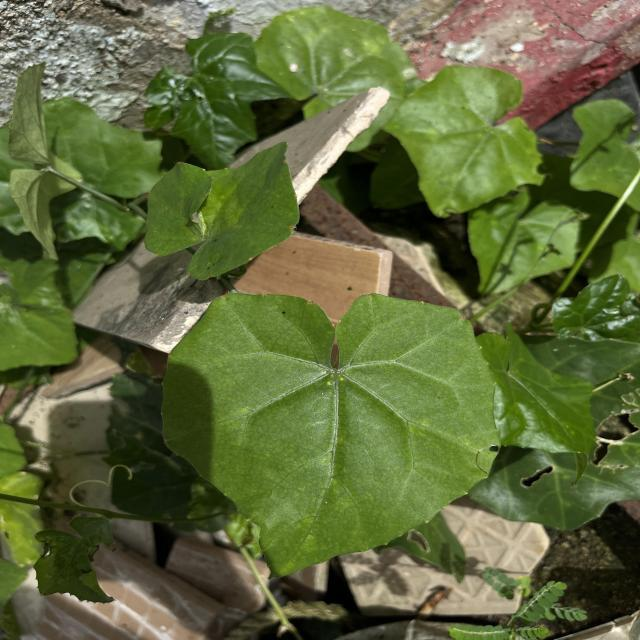Coccinia grandis: (156, 290, 504, 584)
